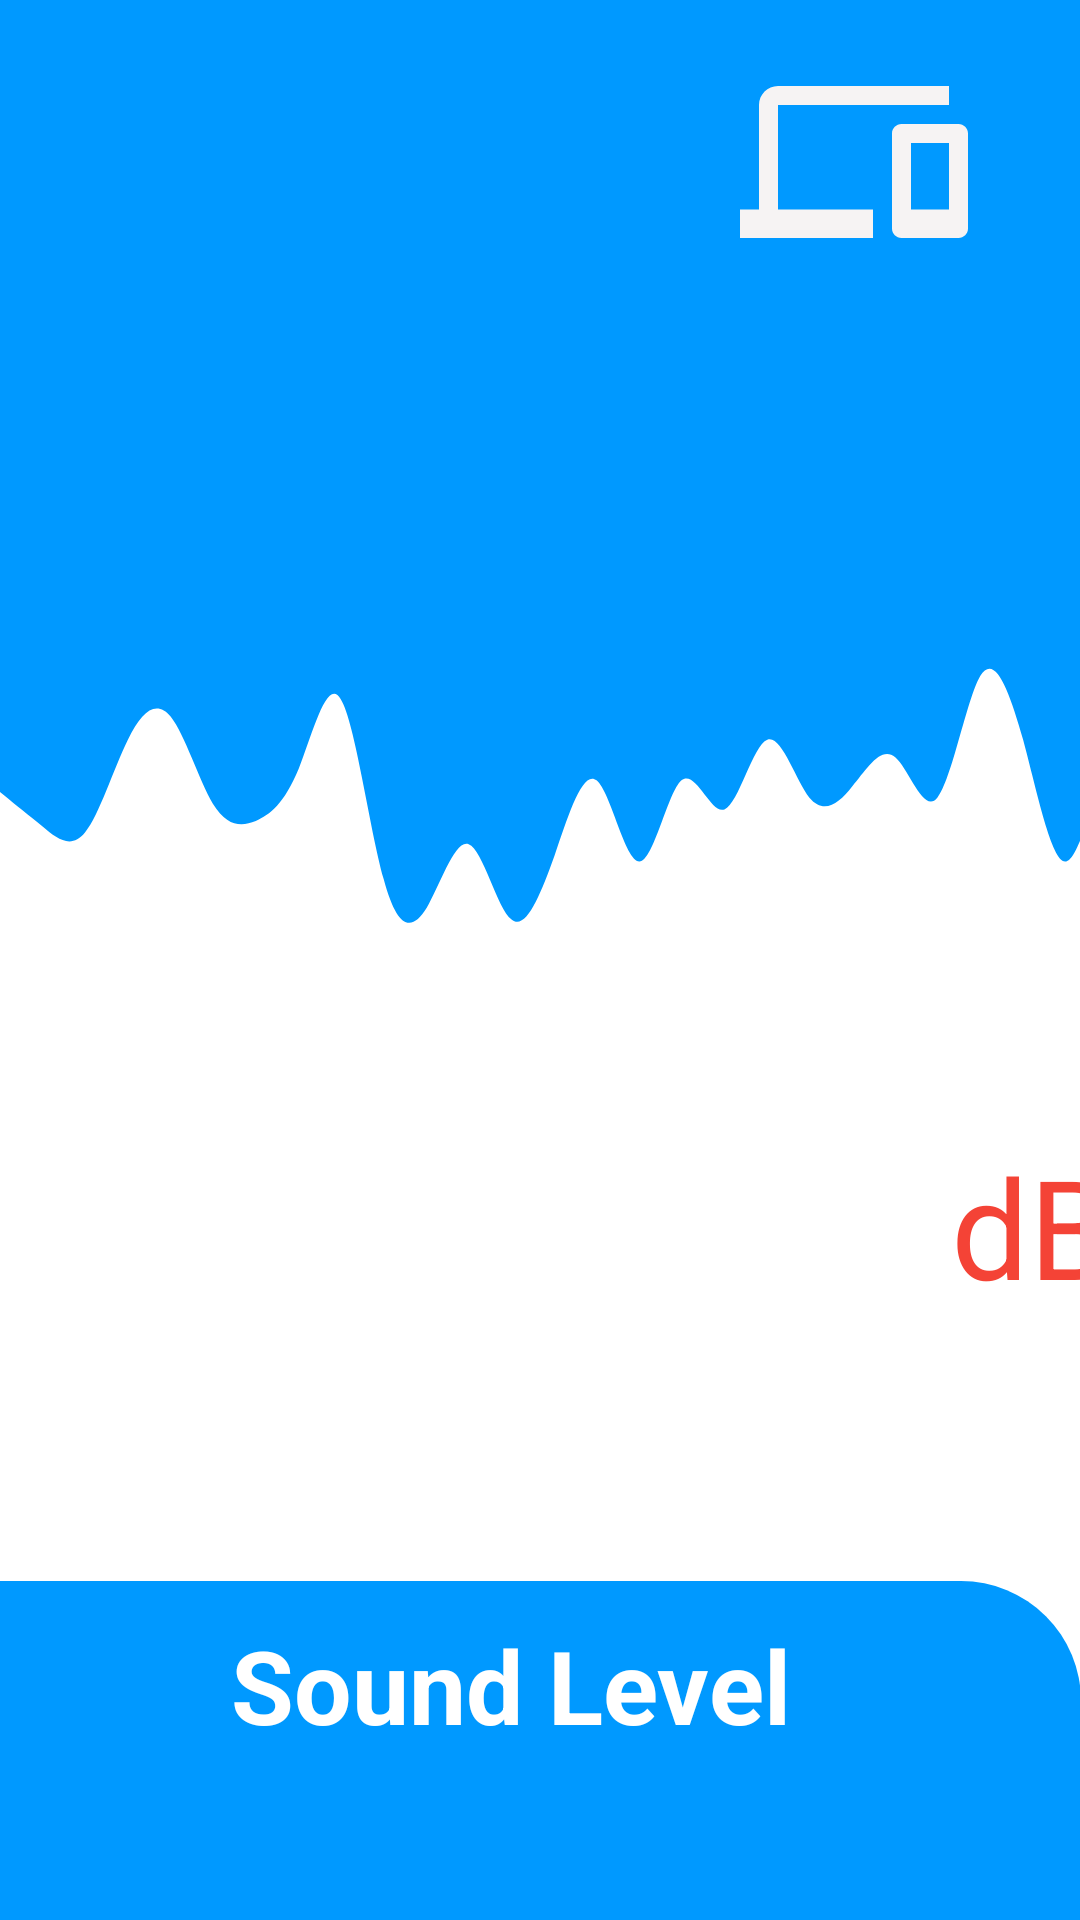

Screen size 1080w x 1920h. Icon name, then its center in pixels as [x,y]:
devices: [854,162]
